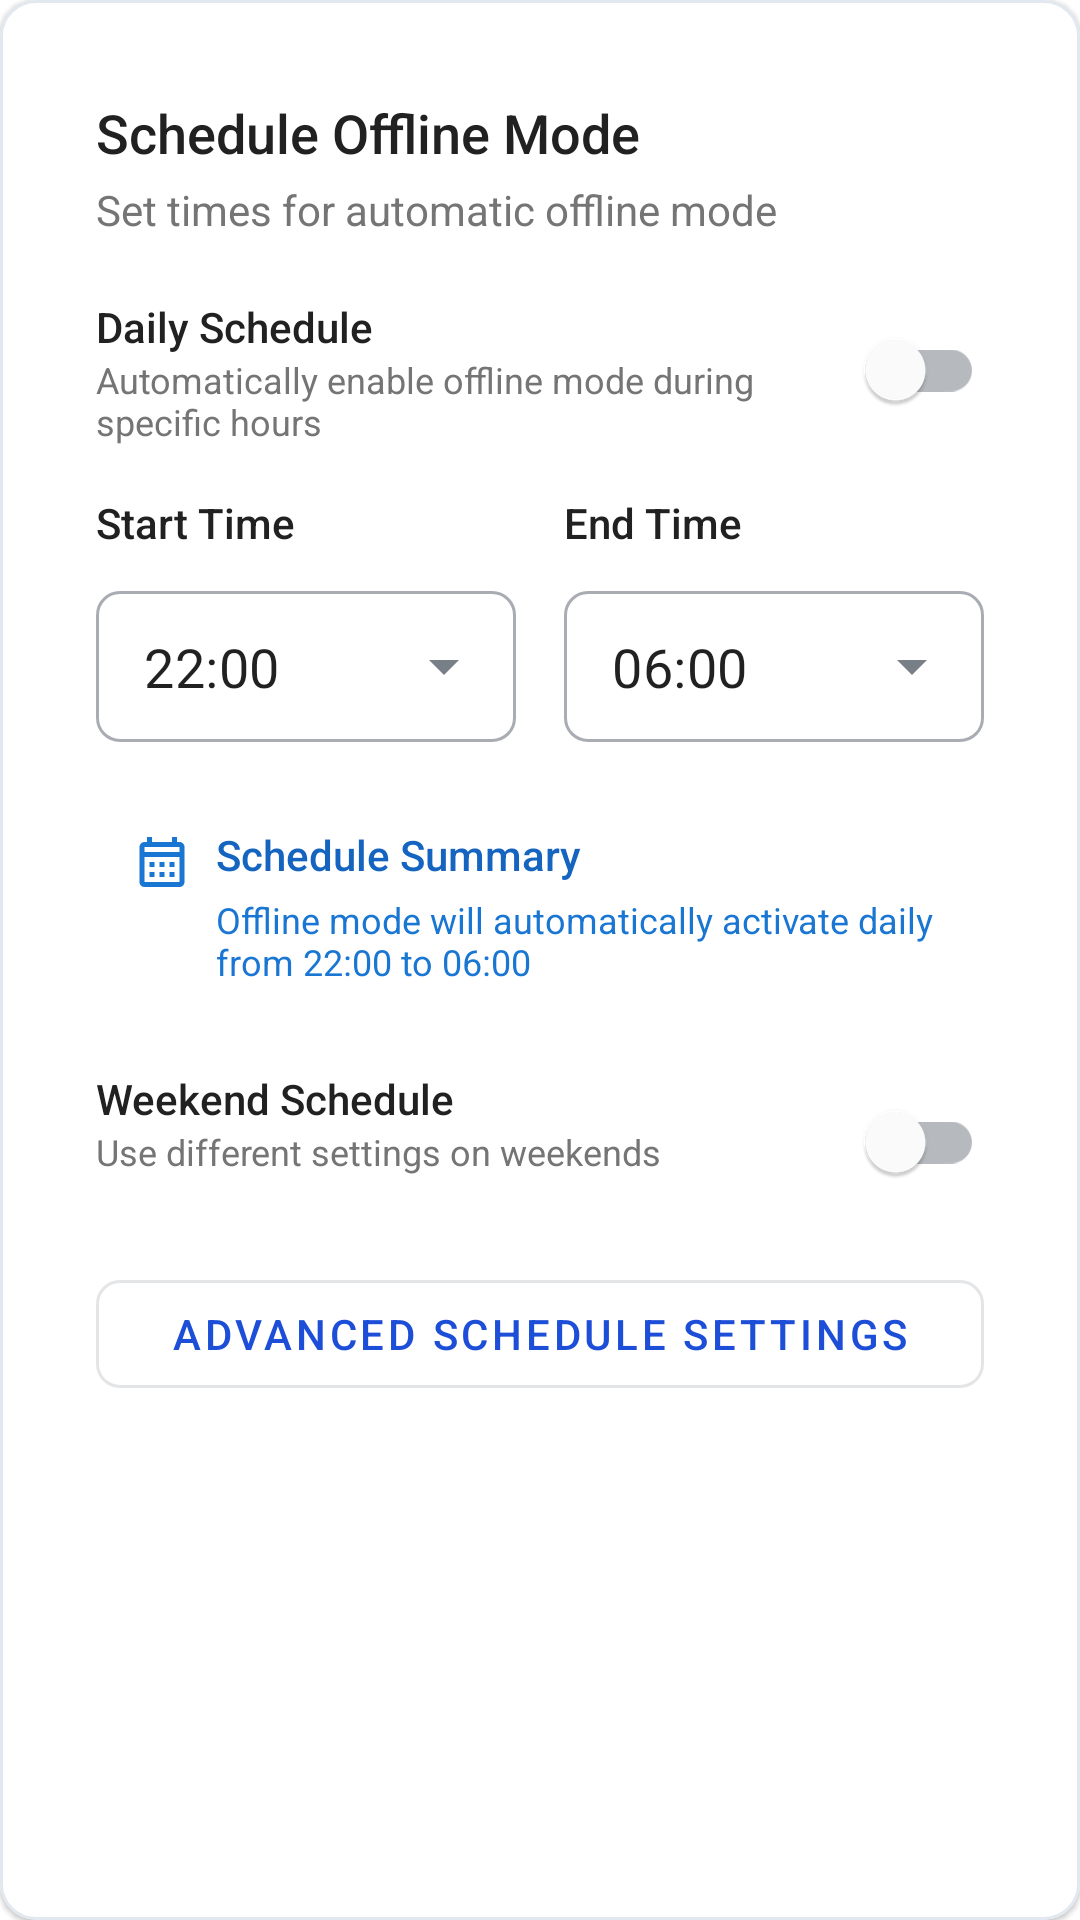

Named icons in this screenshot (1080×1920) and their bounding boxes, [left=x1, top=y1, right=x2, bottom=y2]:
calendar: [left=139, top=837, right=185, bottom=887]
